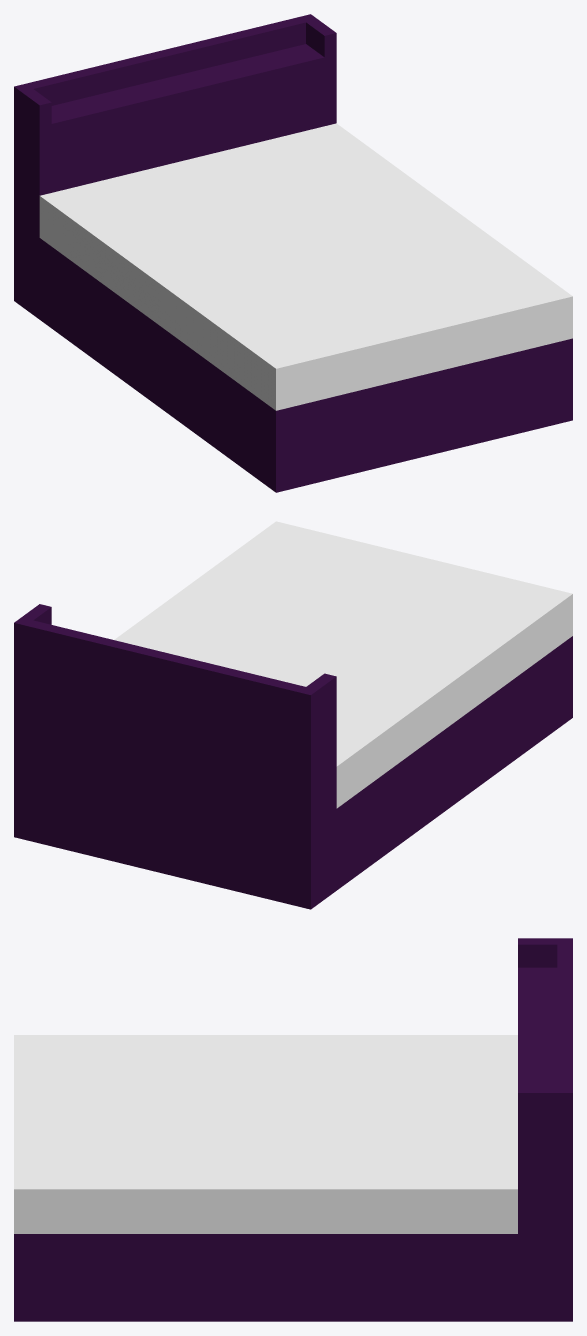
File: bed.fbx
3 renders of one model, top to bottom at view 1: azimuth 30°, elevation 25°; view 2: azimuth 150°, elevation 25°; view 3: azimuth 270°, elevation 25°, orthographic. The views are drawn at different scales.
Visible parts, largest first — view 1: Mattress, Cube; view 2: Cube, Mattress; view 3: Mattress, Cube.
Part boxes in pixels (box(x1,y1,x2,y2)): Mattress: box(39, 123, 572, 410); Cube: box(14, 14, 572, 492); Cube: box(14, 604, 572, 909); Mattress: box(114, 521, 572, 808); Mattress: box(14, 1035, 517, 1233); Cube: box(14, 938, 572, 1321).
Bounding box in the file's own units: 99.15 × 68.42 × 152.
Materials: 1 (1 with a texture image).
